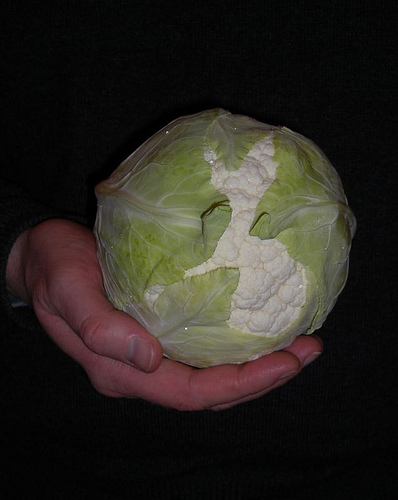cauliflower: (91, 110, 356, 367)
